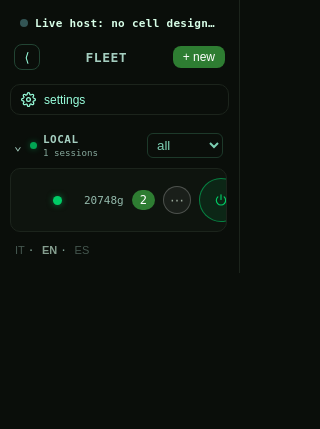
Menu azioni (⋯) nella riga sidebar › apre il popover, il boot è interruttore e chiude dopo il gesto
Click the button named "Cell actions: Local Cell". click: (177, 200)
box: [163,186,191,214]
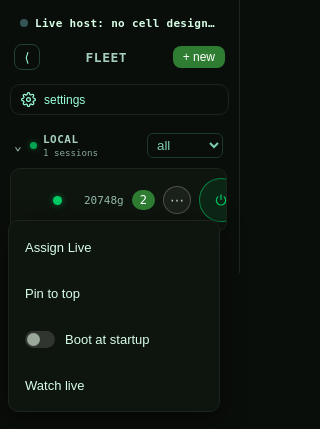
Now the menu item "Assign Live" is shown, box [13,225,215,269]
Now the menu item "Pin to top" is shown, box [13,271,215,315]
Now the menu item "Watch live" is shown, box [13,363,215,407]
Click the menu item "Boot at startup". click: (114, 339)
box: [13,317,215,361]
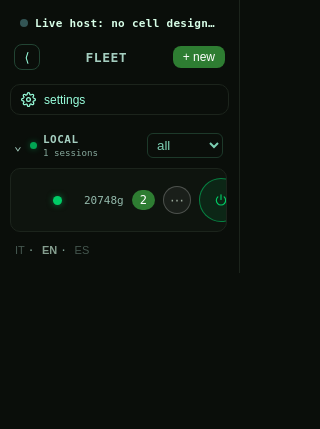
Now the menu is gone
